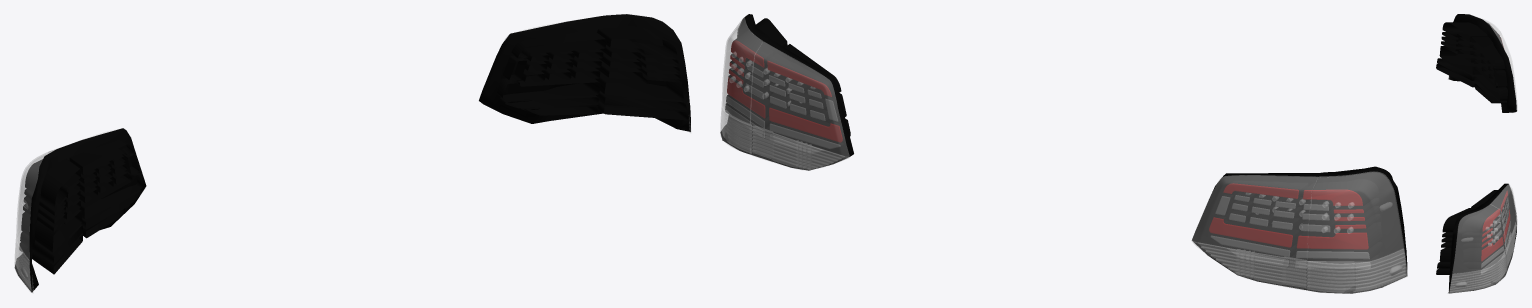
The model's file is стописвітлі.glb.
3 renders of one model, left to right at view 1: azimuth 30°, elevation 25°; view 2: azimuth 150°, elevation 25°; view 3: azimuth 270°, elevation 25°, orthographic. The views are drawn at different scales.
Visible parts, largest first — view 1: black, window; view 2: window, black, grey, red light; view 3: black, window, red light, grey.
Part boxes in pixels (left/top/right/bottom): black: left=14, top=14, right=690, bottom=292; window: left=14, top=14, right=691, bottom=293; window: left=720, top=17, right=1407, bottom=293; black: left=720, top=14, right=1407, bottom=293; grey: left=725, top=63, right=1370, bottom=268; red light: left=727, top=40, right=1368, bottom=249; black: left=1436, top=14, right=1516, bottom=293; window: left=1448, top=16, right=1517, bottom=293; red light: left=1481, top=191, right=1510, bottom=261; grey: left=1481, top=198, right=1510, bottom=274.
Size of the model in its own units: 2.18 by 0.3444 by 0.3502.
